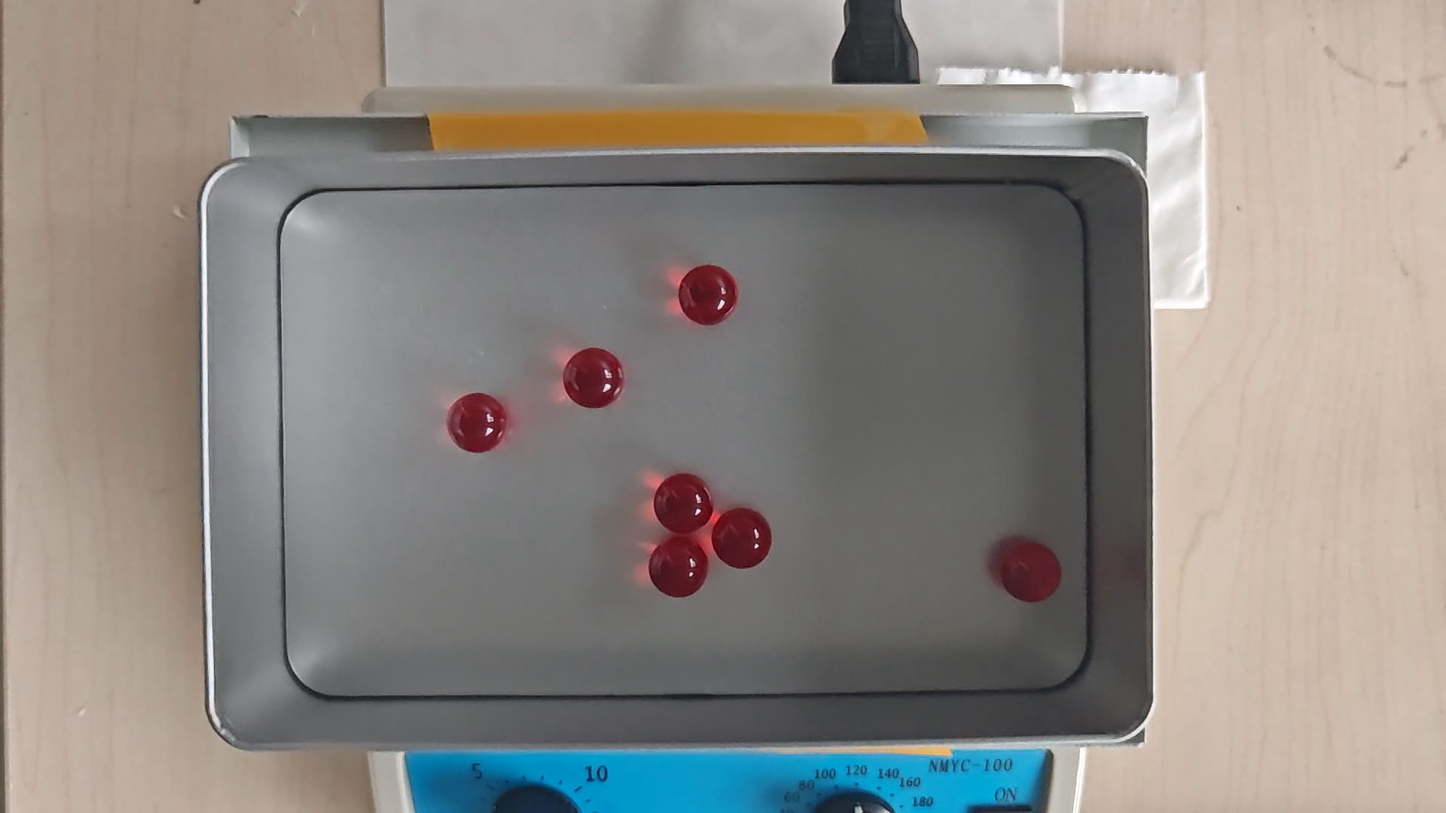ball: (563, 346, 626, 410), (445, 391, 508, 454), (712, 507, 775, 570), (647, 537, 710, 599), (999, 543, 1062, 605), (653, 472, 714, 534), (679, 264, 738, 327)
container: (276, 181, 1091, 694)
